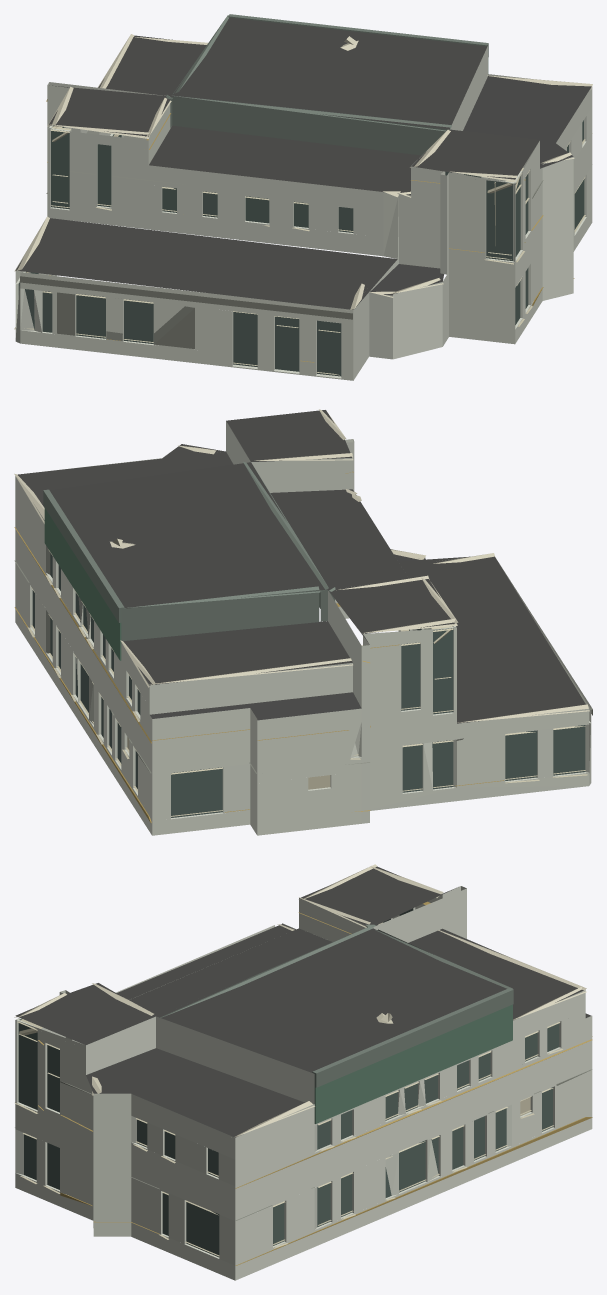
Rendered from witte-boei-wittenburg.lod1.glb.
3 renders of one model, top to bottom at view 1: azimuth 30°, elevation 25°; view 2: azimuth 150°, elevation 25°; view 3: azimuth 270°, elevation 25°, orthographic. The views are drawn at different scales.
Visible parts, largest first — view 1: witte-boei-wittenburg; view 2: witte-boei-wittenburg; view 3: witte-boei-wittenburg.
Boxes of the visible parts, x1,y1,x2,y2 form: witte-boei-wittenburg: (14,14,592,380); witte-boei-wittenburg: (14,409,592,835); witte-boei-wittenburg: (14,864,592,1280).
Bounding box in the file's own units: 30.62 × 9.12 × 26.42.
